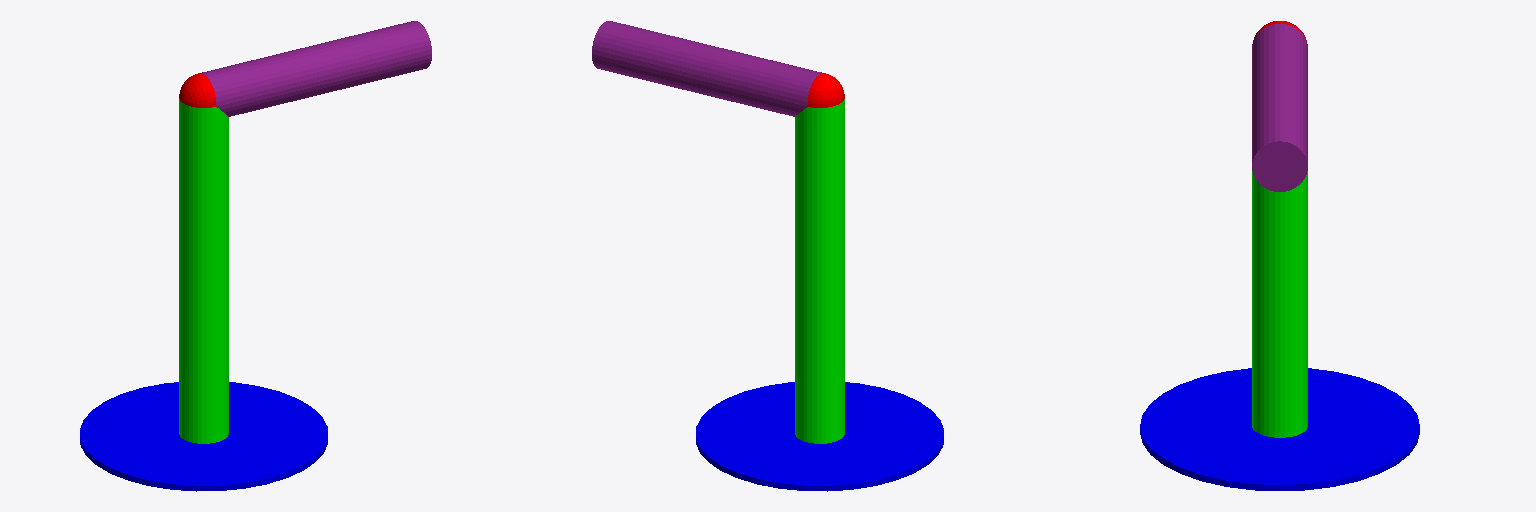
The robot description file, URDF, robot "robocov":
<?xml version="1.0"?>

<robot name="robocov">

  <!-- Color of materials -->
  <material name="yellow">
    <color rgba="1 1 0 1"/>
  </material>
  <material name="blue">
    <color rgba="0 0 1 1"/>
  </material>
  <!--  Se agrega el color verde -->
  <material name="green">
    <color rgba="0 1 0 1"/>
  </material>
  <material name="red">
    <color rgba="1 0 0 1"/>
  </material>
  <!--  Se agrega el color rosado -->
  <material name="pink">
    <color rgba="0.6 0.2 0.6 1"/>
  </material>

  <link name="base_link">
    <visual>
      <geometry>
        <cylinder length="0.01" radius="0.2"/>
      </geometry>
      <origin rpy="0 0 0" xyz="0 0 0"/>
      <material name="blue" />
    </visual>
  </link>
  <!--  Se cambia el nombre a joint 1 -->
  <joint name="joint1" type="revolute">
    <parent link="base_link"/>
    <child link="link1"/><!--  Se modifica los links parent y child -->
    <origin xyz="0 0 0"/>
    <axis xyz="0 0 1" />
    <limit effort="300" velocity="0.1" lower="-3.1" upper="3.1"/>
  </joint>
  <!--  Se cambia el nombre a link 1 -->
  <link name="link1">
    <visual>
      <geometry>
        <cylinder length="0.6" radius="0.04"/>  <!--Se cambia la longitud del link a 0.6m-->
      </geometry>
      <origin rpy="0 0 0" xyz="0 0 0.3"/>   <!--Se cambia el origen del link a 0.3-->
      <material name="green" />
    </visual>
  </link>
  <!--  Se cambia el nombre a joint 2-->
  <joint name="joint2" type="revolute">
    <parent link="link1"/>   <!--  Se modifica los links parent y child -->
    <child link="linkcircular"/>
    <origin xyz="0 0 0.6"/> <!--Se cambia el origen del link a 0.6-->
    <axis xyz="0 1 0" />
    <limit effort="300" velocity="0.1" lower="-0.85" upper="0.85"/>
  </joint>
    <!--Se agrega el link circular-->
  <link name="linkcircular">
    <visual>
      <geometry>
        <sphere radius="0.04"/> <!--Se cambia el link a tipo circular-->
      </geometry>
      <origin rpy="0 1.57 0" xyz="0 0 0"/>
      <material name= "red" />
    </visual>
  </link>
<!--Se agrega la articulacion joint 3-->
  <joint name="joint3" type="fixed"> <!--Se cambia el tipo de articulacion-->
    <parent link="linkcircular"/><!--  Se modifica los links parent y child -->
    <child link="link2"/>
    <origin xyz="0 0 0"/>
    <axis xyz="0 1 0" />
    <limit effort="300" velocity="0.1" lower="-0.85" upper="0.85"/>
  </joint>

<!--Se cambia el nombre a link 2-->
  <link name="link2">
    <visual>
      <geometry>
        <cylinder length="0.4" radius="0.04"/>
      </geometry>
      <origin rpy="0 1.57 0" xyz="0.2 0 0"/> <!--  Se modifica el origen -->
      <material name="pink" /><!--  Se cambia el color del link -->
    </visual>
  </link>
</robot>

--- Render facts (derived) ---
3 views of the same robot in one strip: view 1: azimuth 30°, elevation 25°; view 2: azimuth 150°, elevation 25°; view 3: azimuth 270°, elevation 25° (orthographic).
Model robocov with 4 links and 3 joints (2 revolute, 1 fixed), rooted at base_link, posed all joints at 0.
Visible links, largest first — view 1: base_link, link1, link2, linkcircular; view 2: base_link, link1, link2, linkcircular; view 3: base_link, link1, link2.
Boxes of the visible links, x1,y1,x2,y2 form: base_link: (80,382,327,491); link1: (179,99,228,443); link2: (202,21,431,116); linkcircular: (179,73,216,107); base_link: (696,382,943,491); link1: (795,99,844,443); link2: (592,21,821,116); linkcircular: (807,73,844,107); base_link: (1140,368,1419,490); link1: (1252,171,1307,437); link2: (1252,24,1307,191).
Size in the robot's own frame: 0.6 by 0.4 by 0.6452 metres.
Geometry: primitives only (box / cylinder / sphere), no mesh files.